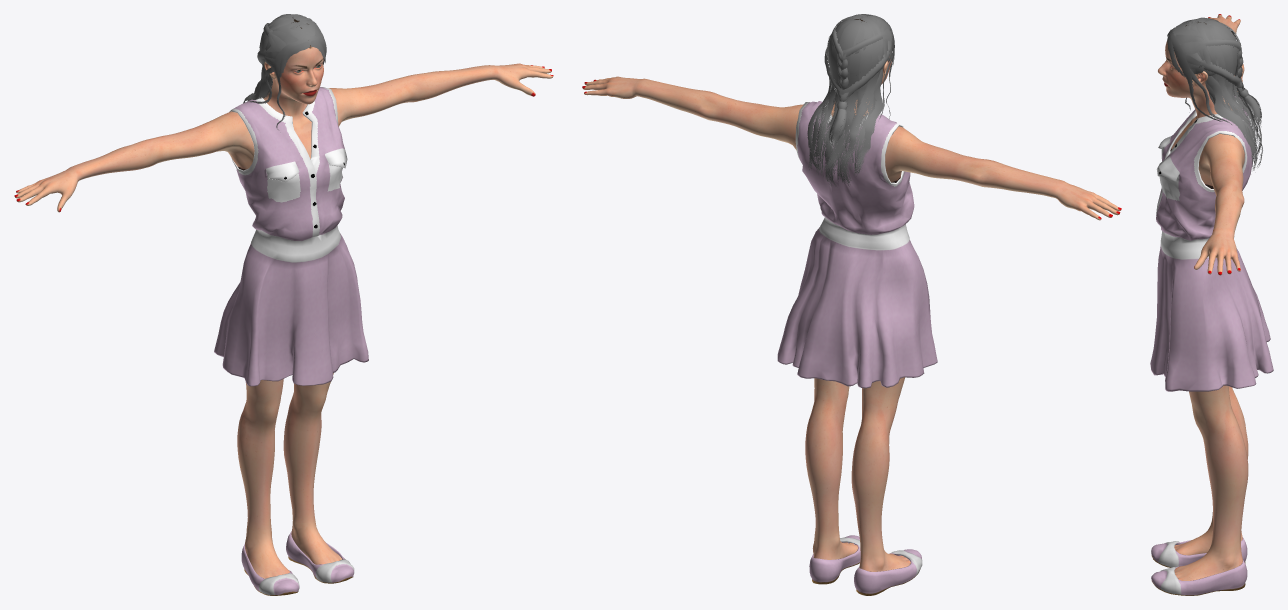
The model's file is Doc021F.FBX.
3 views of the same model, side by side, from view 1: azimuth 30°, elevation 25°; view 2: azimuth 150°, elevation 25°; view 3: azimuth 270°, elevation 25° (orthographic).
Parts seen in each view (by area): view 1: Tops.001, Body.001, Hair.001, Shoes.001; view 2: Tops.001, Body.001, Hair.001, Shoes.001; view 3: Tops.001, Body.001, Hair.001, Shoes.001.
Part boxes in pixels (x1,y1,x2,y2): Tops.001: (214, 87, 368, 386); Body.001: (14, 18, 553, 578); Hair.001: (243, 14, 326, 129); Shoes.001: (241, 531, 354, 595); Tops.001: (777, 101, 937, 388); Body.001: (582, 18, 1121, 571); Hair.001: (807, 14, 894, 186); Shoes.001: (809, 535, 922, 595); Tops.001: (1150, 96, 1273, 391); Body.001: (1158, 14, 1248, 580); Hair.001: (1167, 17, 1262, 170); Shoes.001: (1151, 537, 1247, 595).
Size of the model in its own units: 17929 by 17828 by 3601.
Materials: 5 (4 with a texture image).
